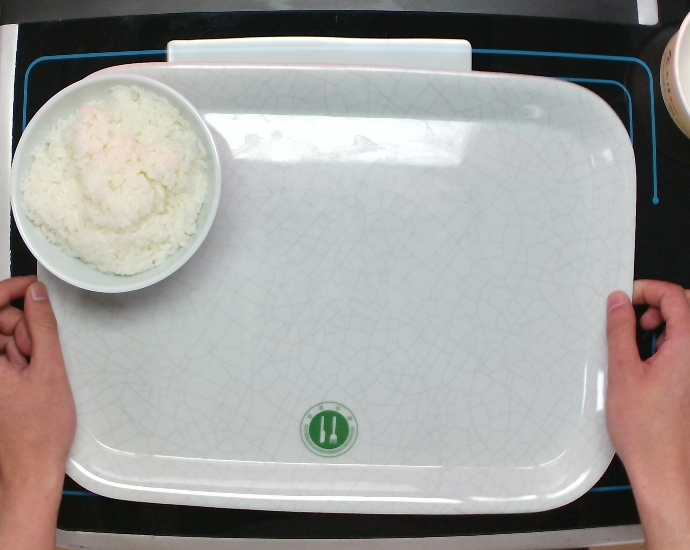JYsf-Fan_Wan: (6, 69, 226, 296)
